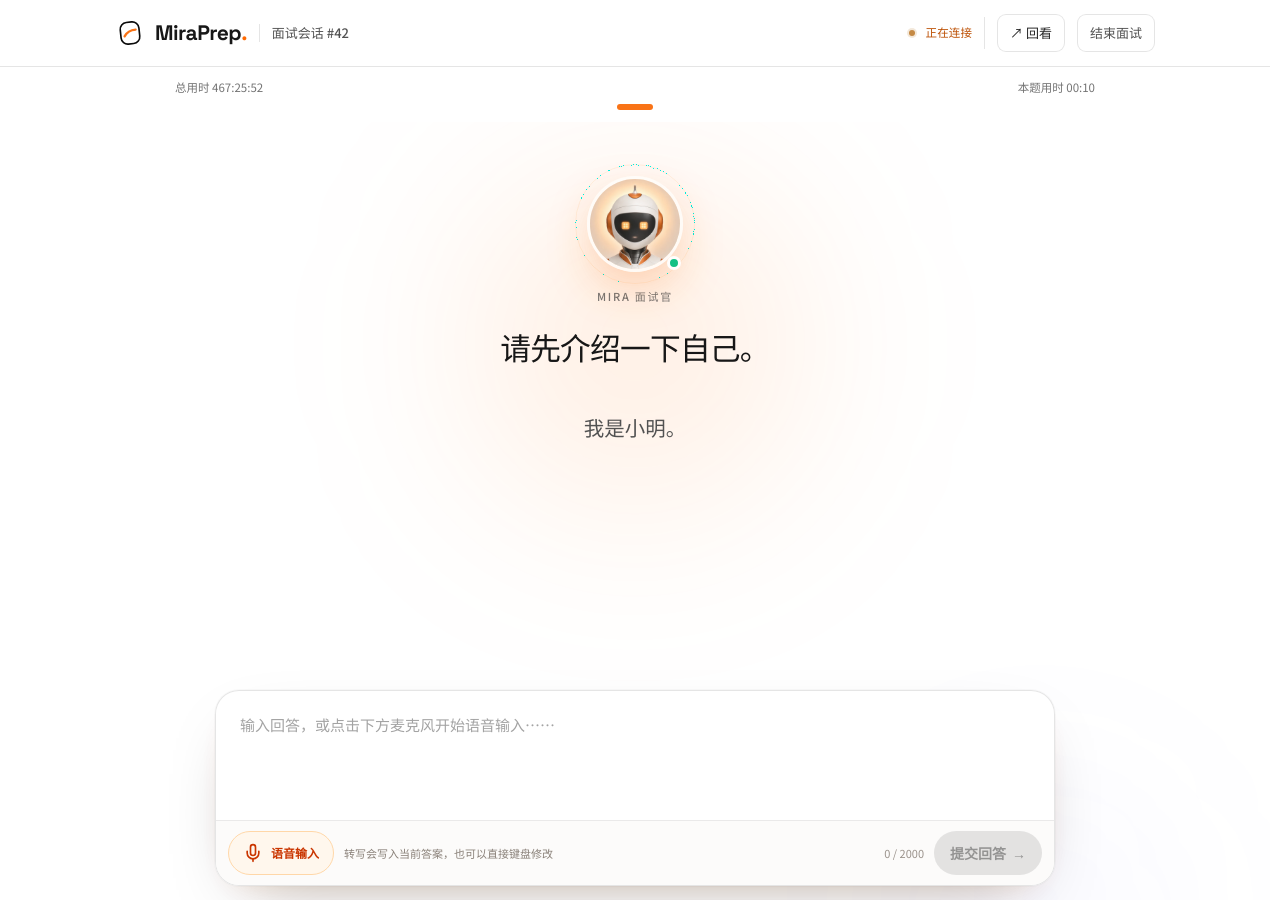
Scenario: InterviewClient runtime › retains an unconfirmed answer when submission fails
Expected: the text "请先介绍一下自己。" is shown, [500, 324, 770, 370]
Type "不要丢掉我" into the text box named "你的回答".
click(635, 753); type("不要丢掉我")  # box [216, 691, 1054, 815]
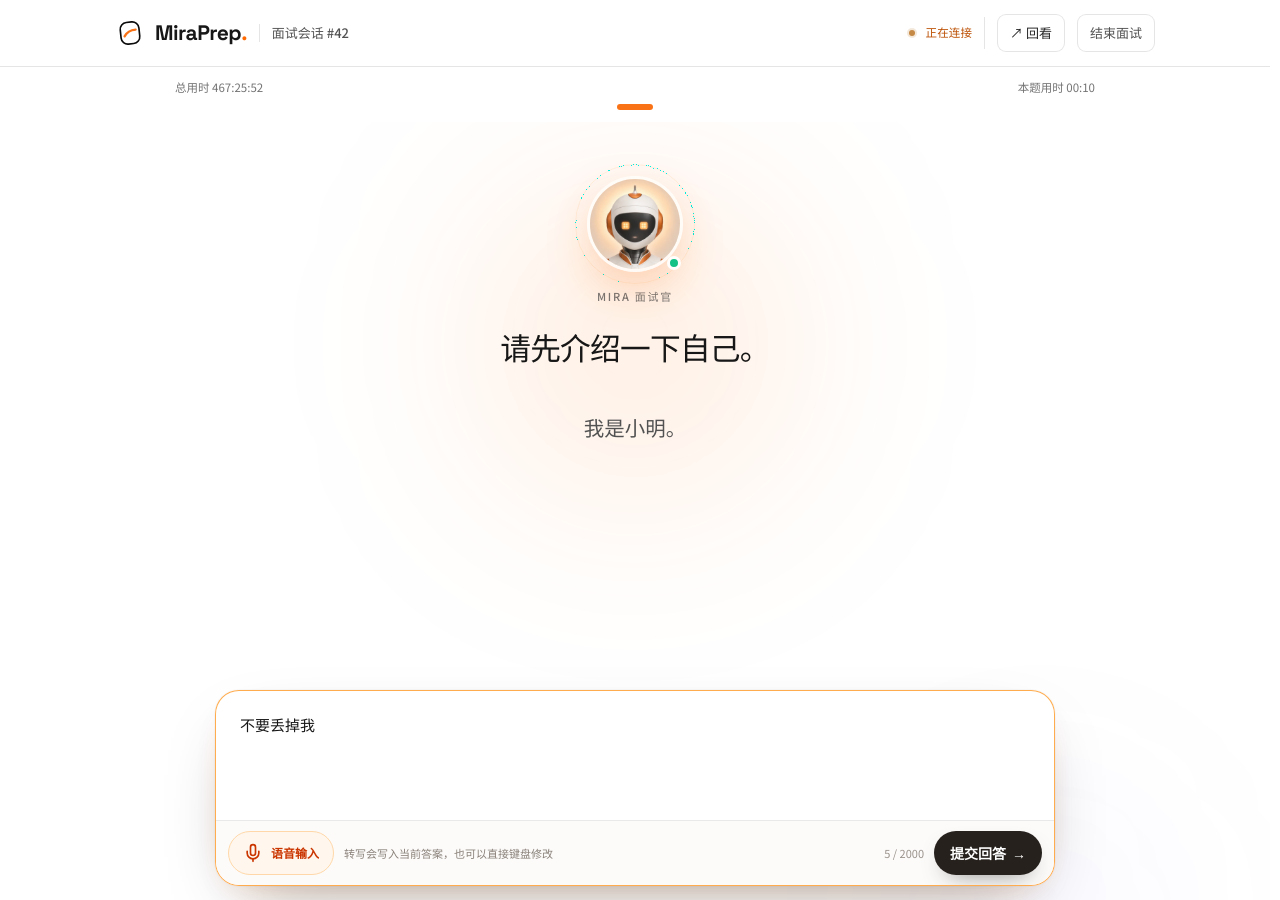
Click the button "提交回答 →".
click(988, 853)  # box [934, 831, 1042, 875]
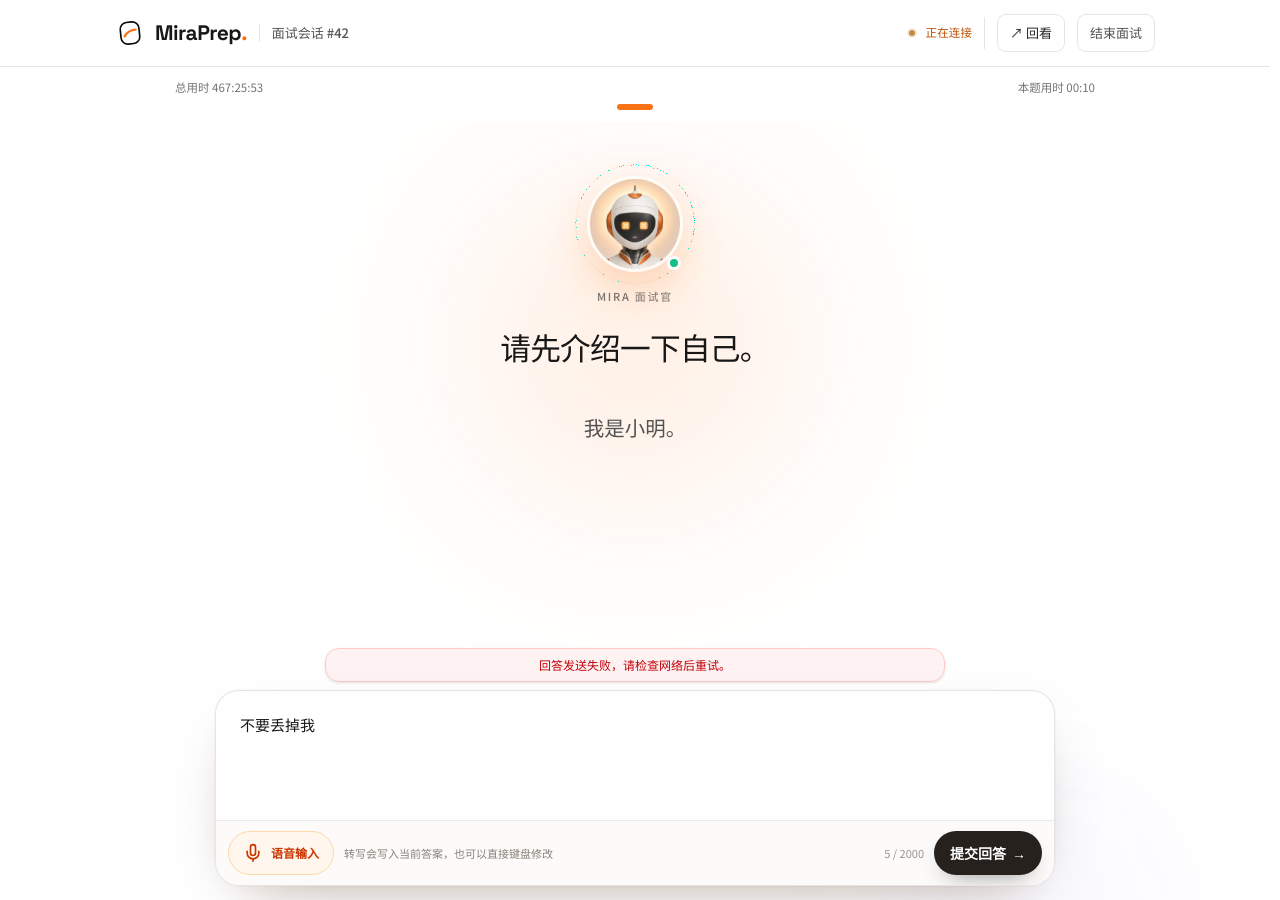
Now the text "回答发送失败，请检查网络后重试。" is shown, box [325, 648, 945, 682]
